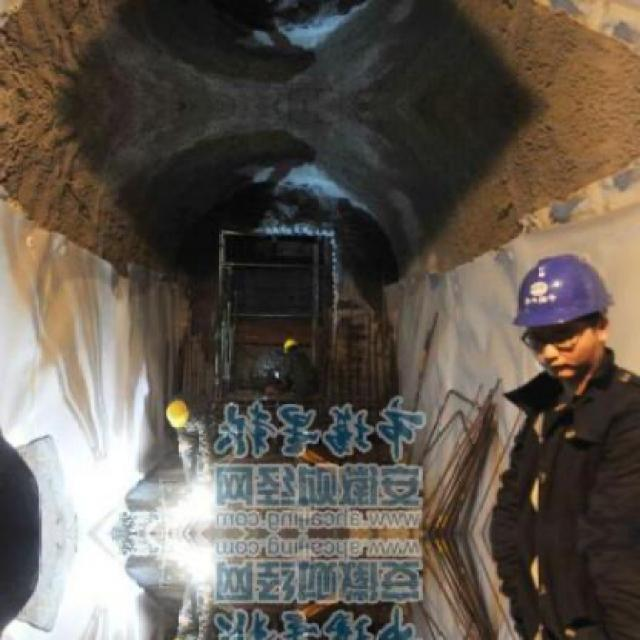helmet: (508, 242, 615, 381), (164, 401, 193, 430), (283, 338, 297, 354)
